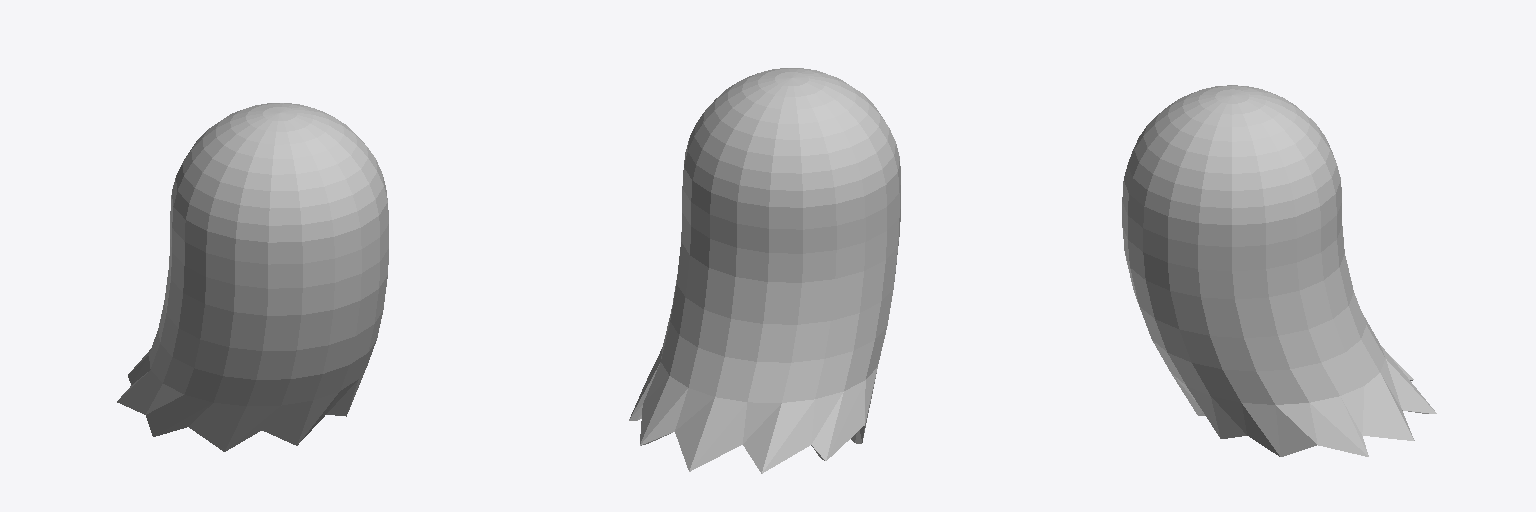
File: SpoopyGhost.obj
3 renders of one model, left to right at view 1: azimuth 30°, elevation 25°; view 2: azimuth 150°, elevation 25°; view 3: azimuth 270°, elevation 25°, orthographic.
Visible parts, largest first — view 1: pCylinder2; view 2: pCylinder2; view 3: pCylinder2.
Part boxes in pixels (x1,y1,x2,y2): pCylinder2: (117,103,388,451); pCylinder2: (629,68,900,473); pCylinder2: (1122,85,1436,456).
Bounding box in the file's own units: 2.18 × 3.22 × 2.87.